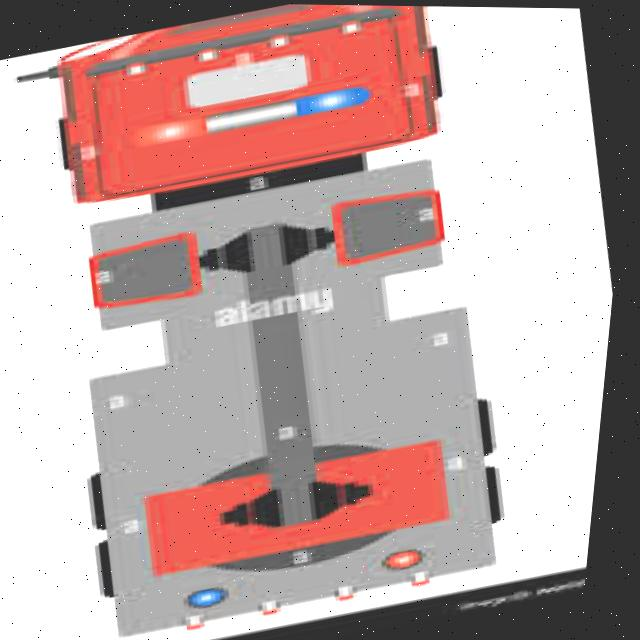truck: (0, 0, 572, 640)
